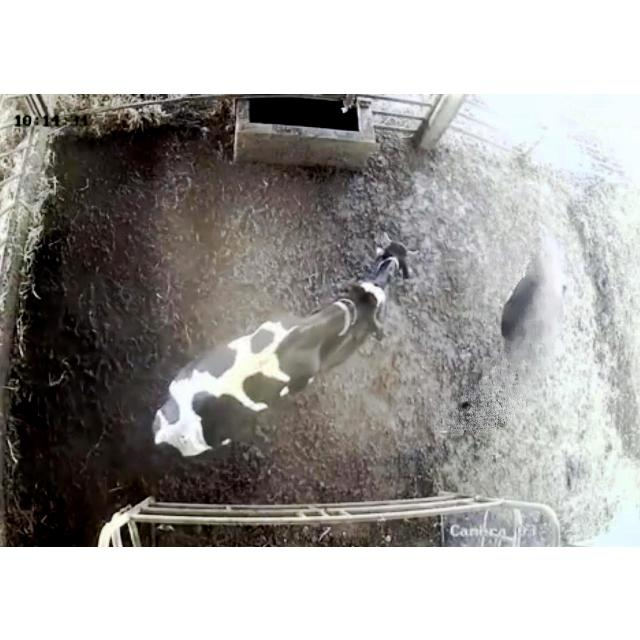ride: (142, 274, 392, 473)
